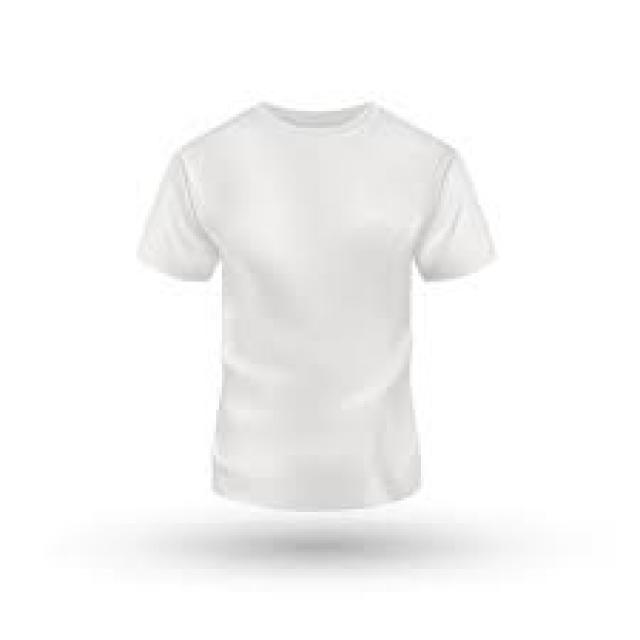Shirt: (101, 96, 514, 526)
